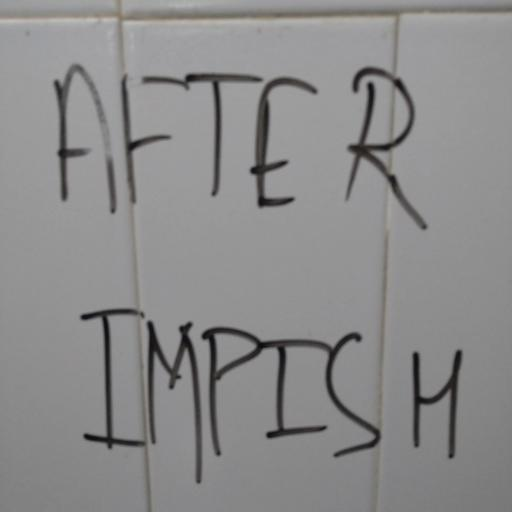stain: (73, 290, 490, 501), (49, 61, 479, 248)
